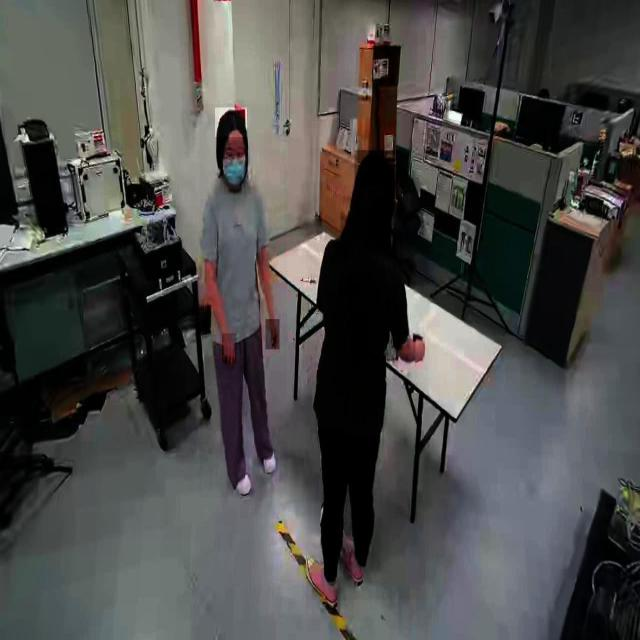face_mask: (216, 140, 248, 193)
hand_noglove: (222, 334, 237, 364), (266, 319, 280, 350), (412, 333, 426, 362)
head_nohelmet: (355, 150, 395, 188), (215, 108, 247, 138)
person: (306, 148, 429, 601), (200, 104, 288, 499)
shoes: (304, 554, 340, 610), (339, 524, 367, 588), (251, 415, 279, 477), (224, 446, 254, 500)
